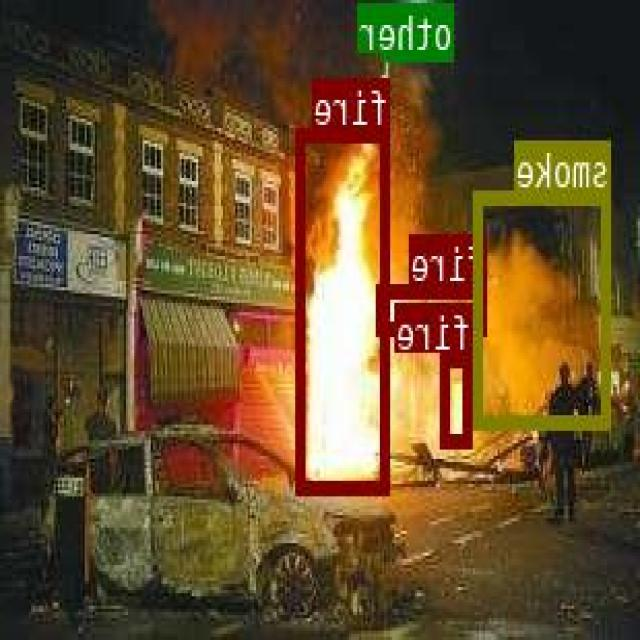fire: (298, 128, 391, 491), (380, 282, 488, 334), (444, 352, 474, 444)
other: (386, 2, 454, 56)
smoke: (477, 188, 612, 426)
